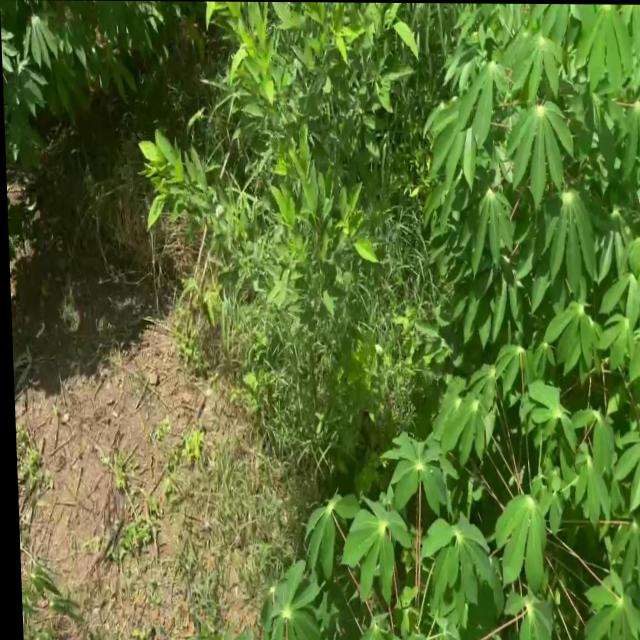Maleza: (167, 196, 371, 452), (258, 108, 424, 386), (222, 9, 344, 249), (127, 130, 254, 219), (340, 11, 422, 131)
